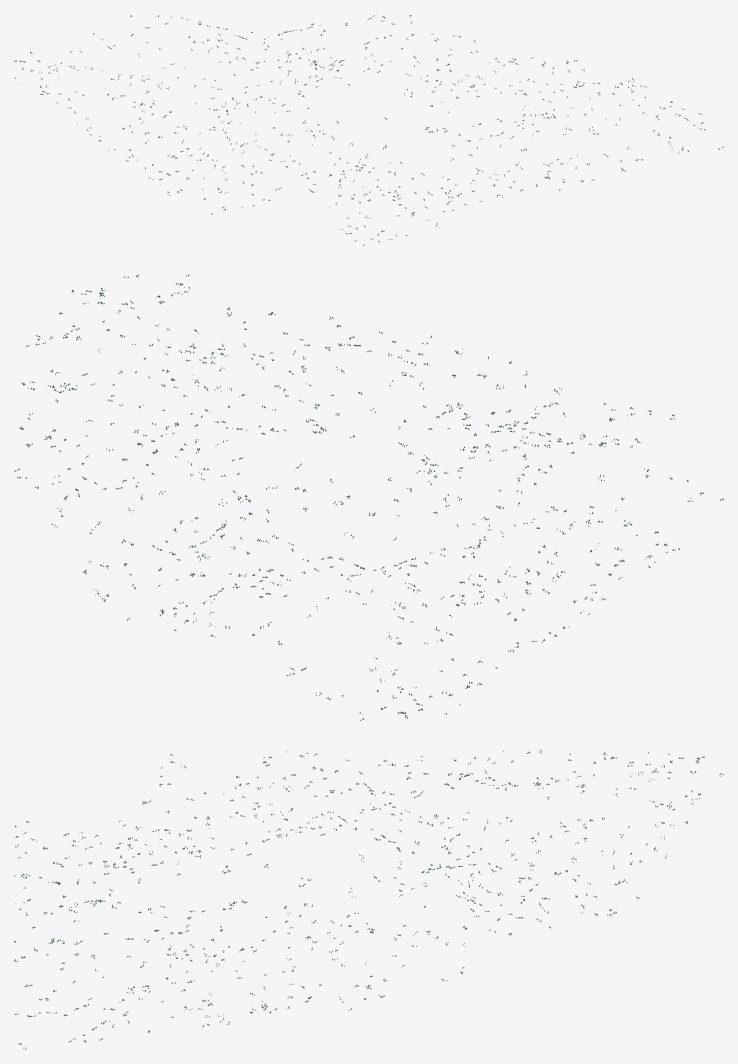
Rendered from SM_AsirMountains_Far_Forest_4.fbx.
The picture shows the model from 3 angles, top to bottom: view 1: azimuth 30°, elevation 25°; view 2: azimuth 150°, elevation 25°; view 3: azimuth 270°, elevation 25°; orthographic projection. The views are drawn at different scales.
Visible parts, largest first — view 1: SM_AsirMountains_Far_Forest_4; view 2: SM_AsirMountains_Far_Forest_4; view 3: SM_AsirMountains_Far_Forest_4.
Part boxes in pixels (bbox=[...]): SM_AsirMountains_Far_Forest_4: bbox=[14, 14, 723, 245]; SM_AsirMountains_Far_Forest_4: bbox=[14, 274, 723, 720]; SM_AsirMountains_Far_Forest_4: bbox=[14, 749, 723, 1049].
Size of the model in its own units: 516396 by 43722 by 517733.
